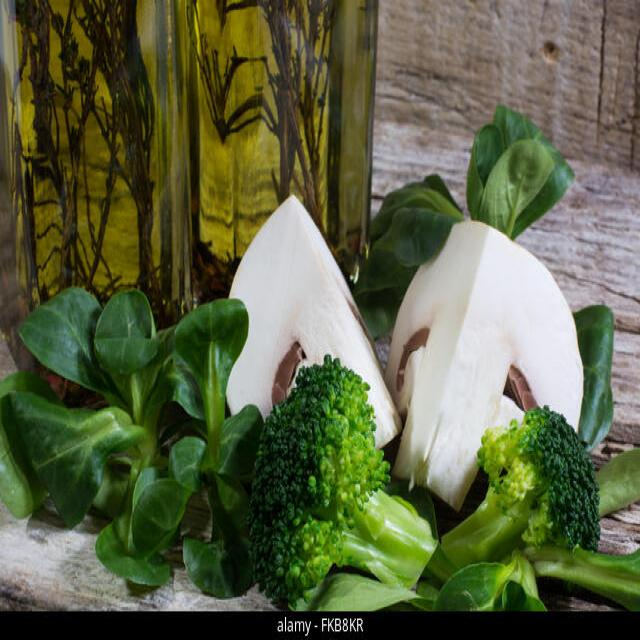broccoli: (241, 348, 438, 612), (442, 404, 602, 571)
